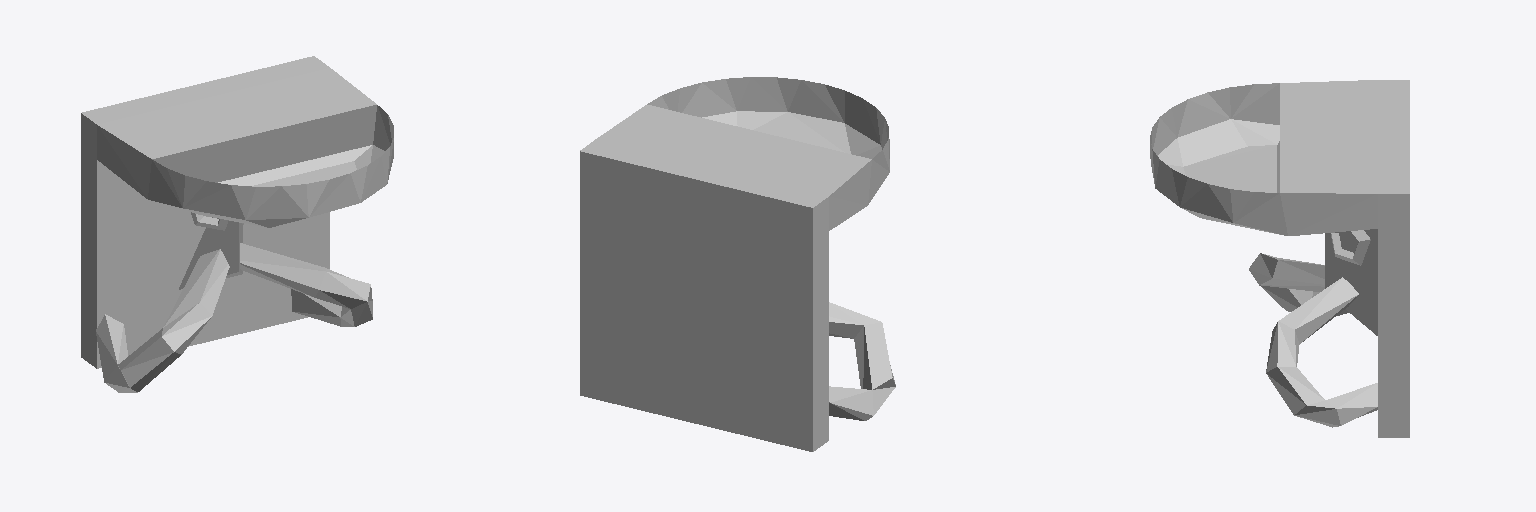
Rendered from fuelWall.obj.
The picture shows the model from 3 angles: view 1: azimuth 30°, elevation 25°; view 2: azimuth 150°, elevation 25°; view 3: azimuth 270°, elevation 25°; orthographic projection.
Parts seen in each view (by area): view 1: Object.1; view 2: Object.1; view 3: Object.1.
Part boxes in pixels (left/top/right/bottom): Object.1: left=81, top=56, right=393, bottom=392; Object.1: left=580, top=77, right=895, bottom=451; Object.1: left=1150, top=80, right=1409, bottom=437.
Size of the model in its own units: 98.85 by 89.02 by 85.8.